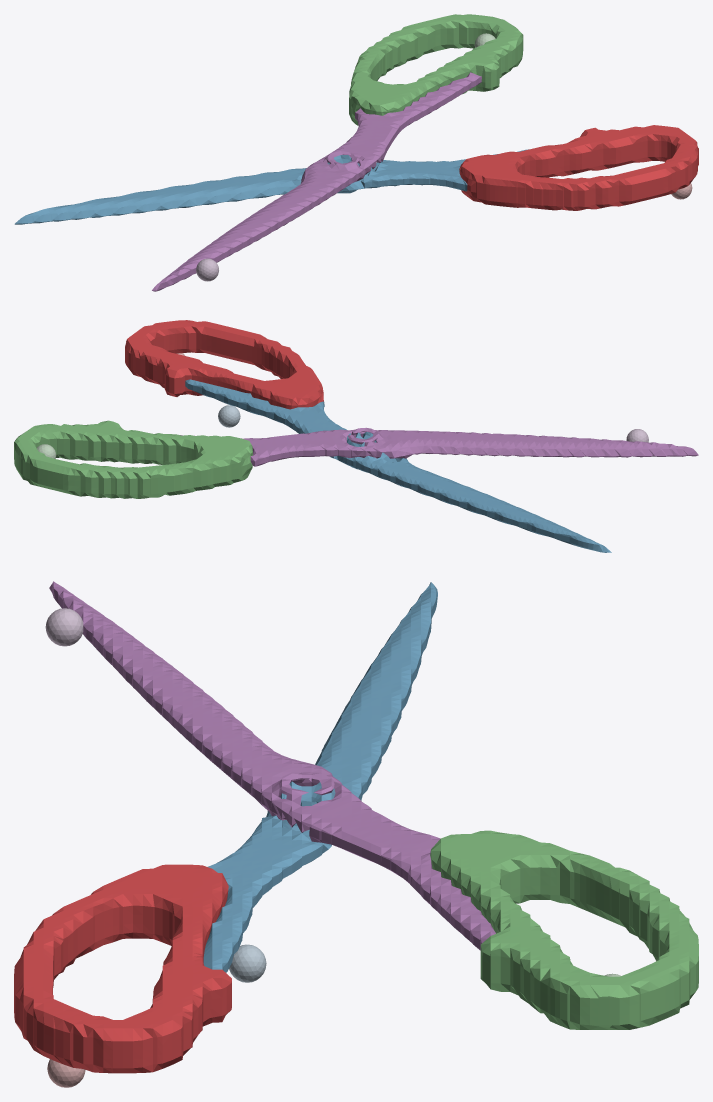
File: ours.glb
The picture shows the model from 3 angles, top to bottom: view 1: azimuth 30°, elevation 25°; view 2: azimuth 150°, elevation 25°; view 3: azimuth 270°, elevation 25°; orthographic projection. The views are drawn at different scales.
Visible parts, largest first — view 1: g0, g2, g3, g1; view 2: g2, g0, g3, g1; view 3: g2, g0, g3, g1.
Part boxes in pixels (x1=…): g0: x1=459, y1=125, x2=698, y2=210; g2: x1=349, y1=14, x2=523, y2=125; g3: x1=152, y1=72, x2=481, y2=291; g1: x1=14, y1=149, x2=528, y2=224; g2: x1=14, y1=420, x2=252, y2=498; g0: x1=125, y1=320, x2=323, y2=409; g3: x1=180, y1=427, x2=698, y2=466; g1: x1=185, y1=379, x2=611, y2=552; g2: x1=430, y1=830, x2=698, y2=1029; g0: x1=14, y1=864, x2=231, y2=1087; g3: x1=45, y1=581, x2=495, y2=950; g1: x1=203, y1=582, x2=437, y2=982.
Size of the model in its own units: 1.87 by 0.1742 by 1.14.
